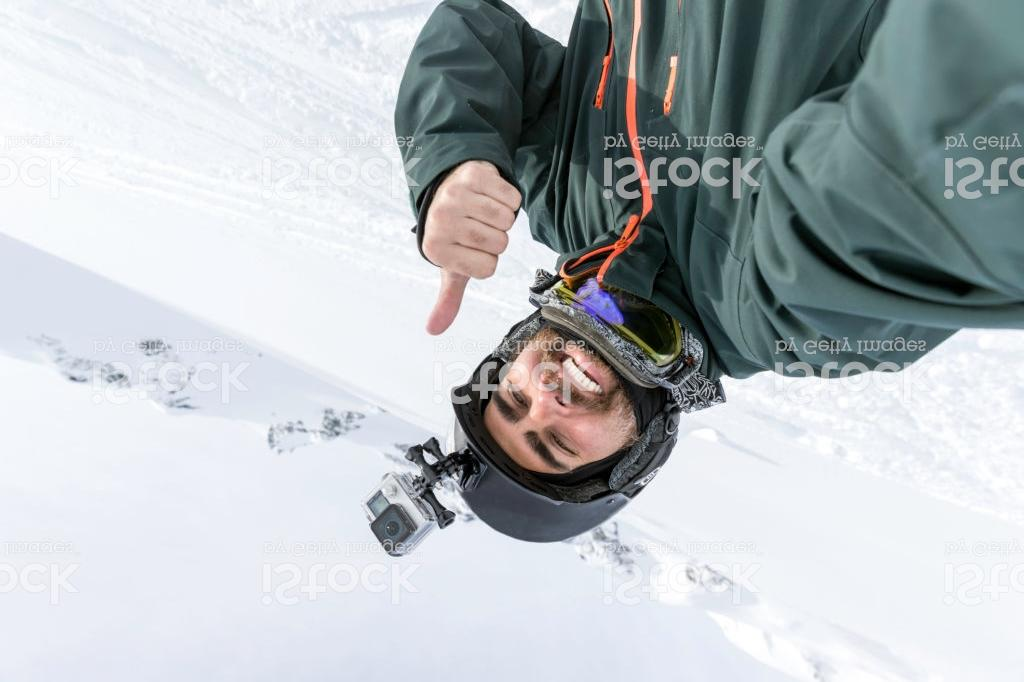thumbsdown: (418, 158, 526, 338)
